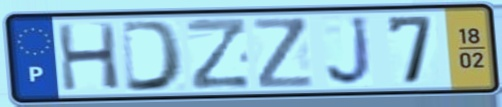7: (385, 14, 439, 87)
D: (118, 18, 187, 94)
H: (53, 21, 124, 93)
J: (323, 13, 376, 89)
Z: (183, 16, 254, 93), (249, 15, 318, 91)
